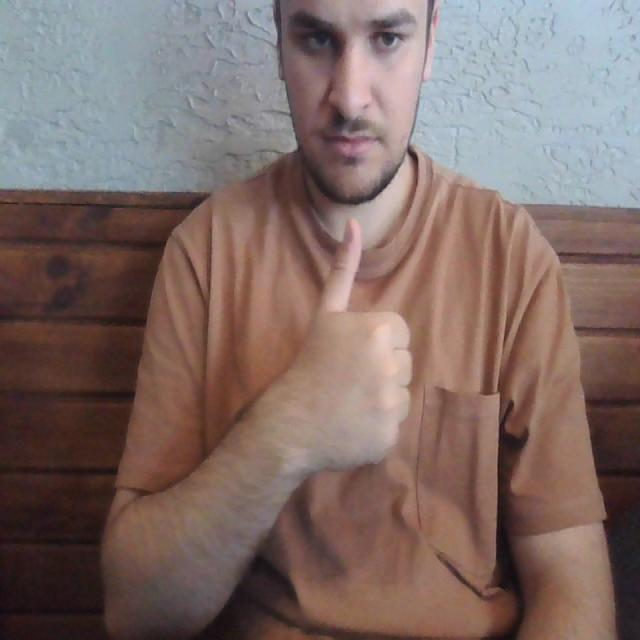Tamam: (292, 209, 426, 480)
